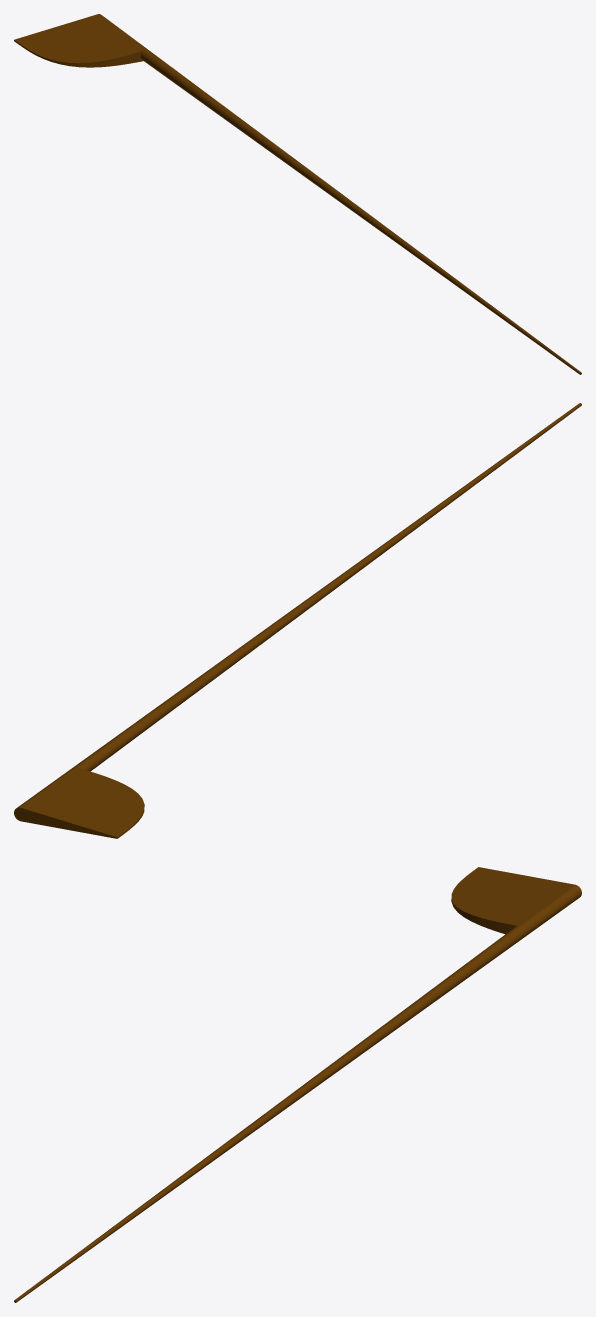
Rendered from Tewhatewha.fbx.
3 views of the same model, one above another, from view 1: azimuth 30°, elevation 25°; view 2: azimuth 150°, elevation 25°; view 3: azimuth 330°, elevation 25° (orthographic). The views are drawn at different scales.
Parts seen in each view (by area): view 1: Tewhatewha; view 2: Tewhatewha; view 3: Tewhatewha.
Boxes of the visible parts, <box> form: Tewhatewha: <box>14,14,581,374</box>; Tewhatewha: <box>14,403,581,838</box>; Tewhatewha: <box>14,867,581,1302</box>.
Bounding box in the file's own units: 16 × 2 × 150.
